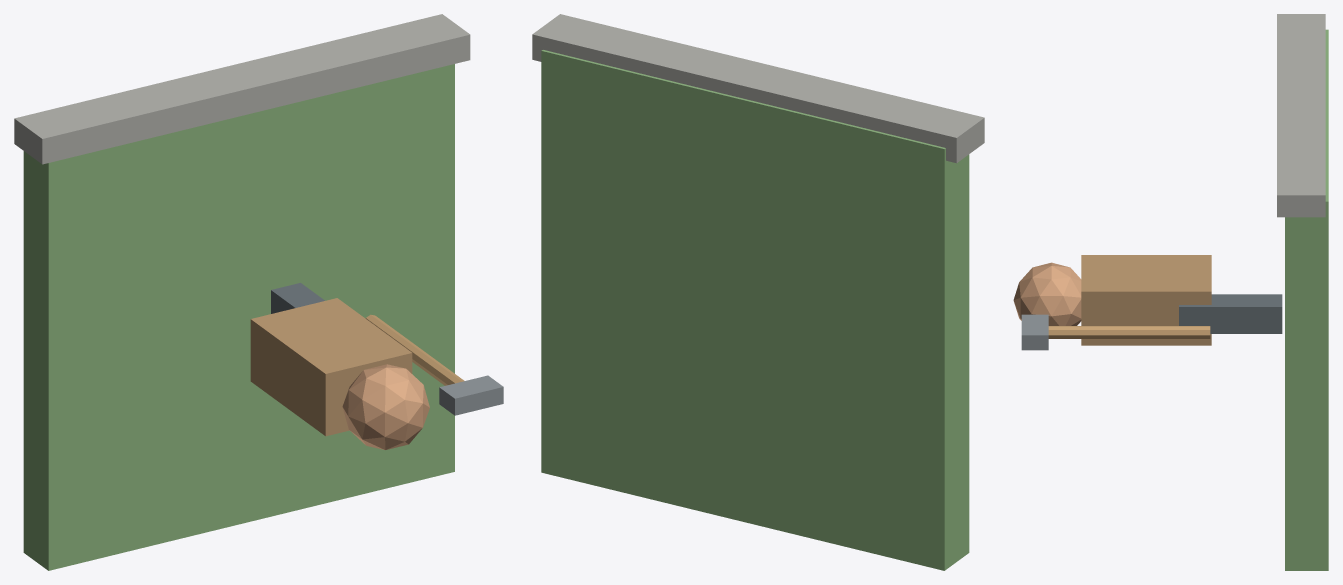
Rendered from 07_TieuPhu.glb.
3 renders of one model, left to right at view 1: azimuth 30°, elevation 25°; view 2: azimuth 150°, elevation 25°; view 3: azimuth 270°, elevation 25°, orthographic. The views are drawn at different scales.
Parts seen in each view (by area): view 1: base, edge, body, head, axehead, axehandle, leg; view 2: base, edge; view 3: base, edge, body, leg, head, axehandle, axehead.
Part boxes in pixels (x1,y1,x2,y2): base: (23,64,454,570); edge: (14,14,470,164); body: (250,298,412,436); head: (342,364,429,449); axehead: (439,375,503,415); axehandle: (365,314,464,385); leg: (271,283,324,313); base: (541,50,969,570); edge: (532,14,984,163); base: (1285,29,1328,570); edge: (1277,14,1325,217); body: (1081,255,1211,345); leg: (1179,294,1282,333); head: (1013,262,1081,325); axehandle: (1048,326,1210,338); axehead: (1021,314,1048,350).
Size of the model in its own units: 1.58 by 1.55 by 1.16.
